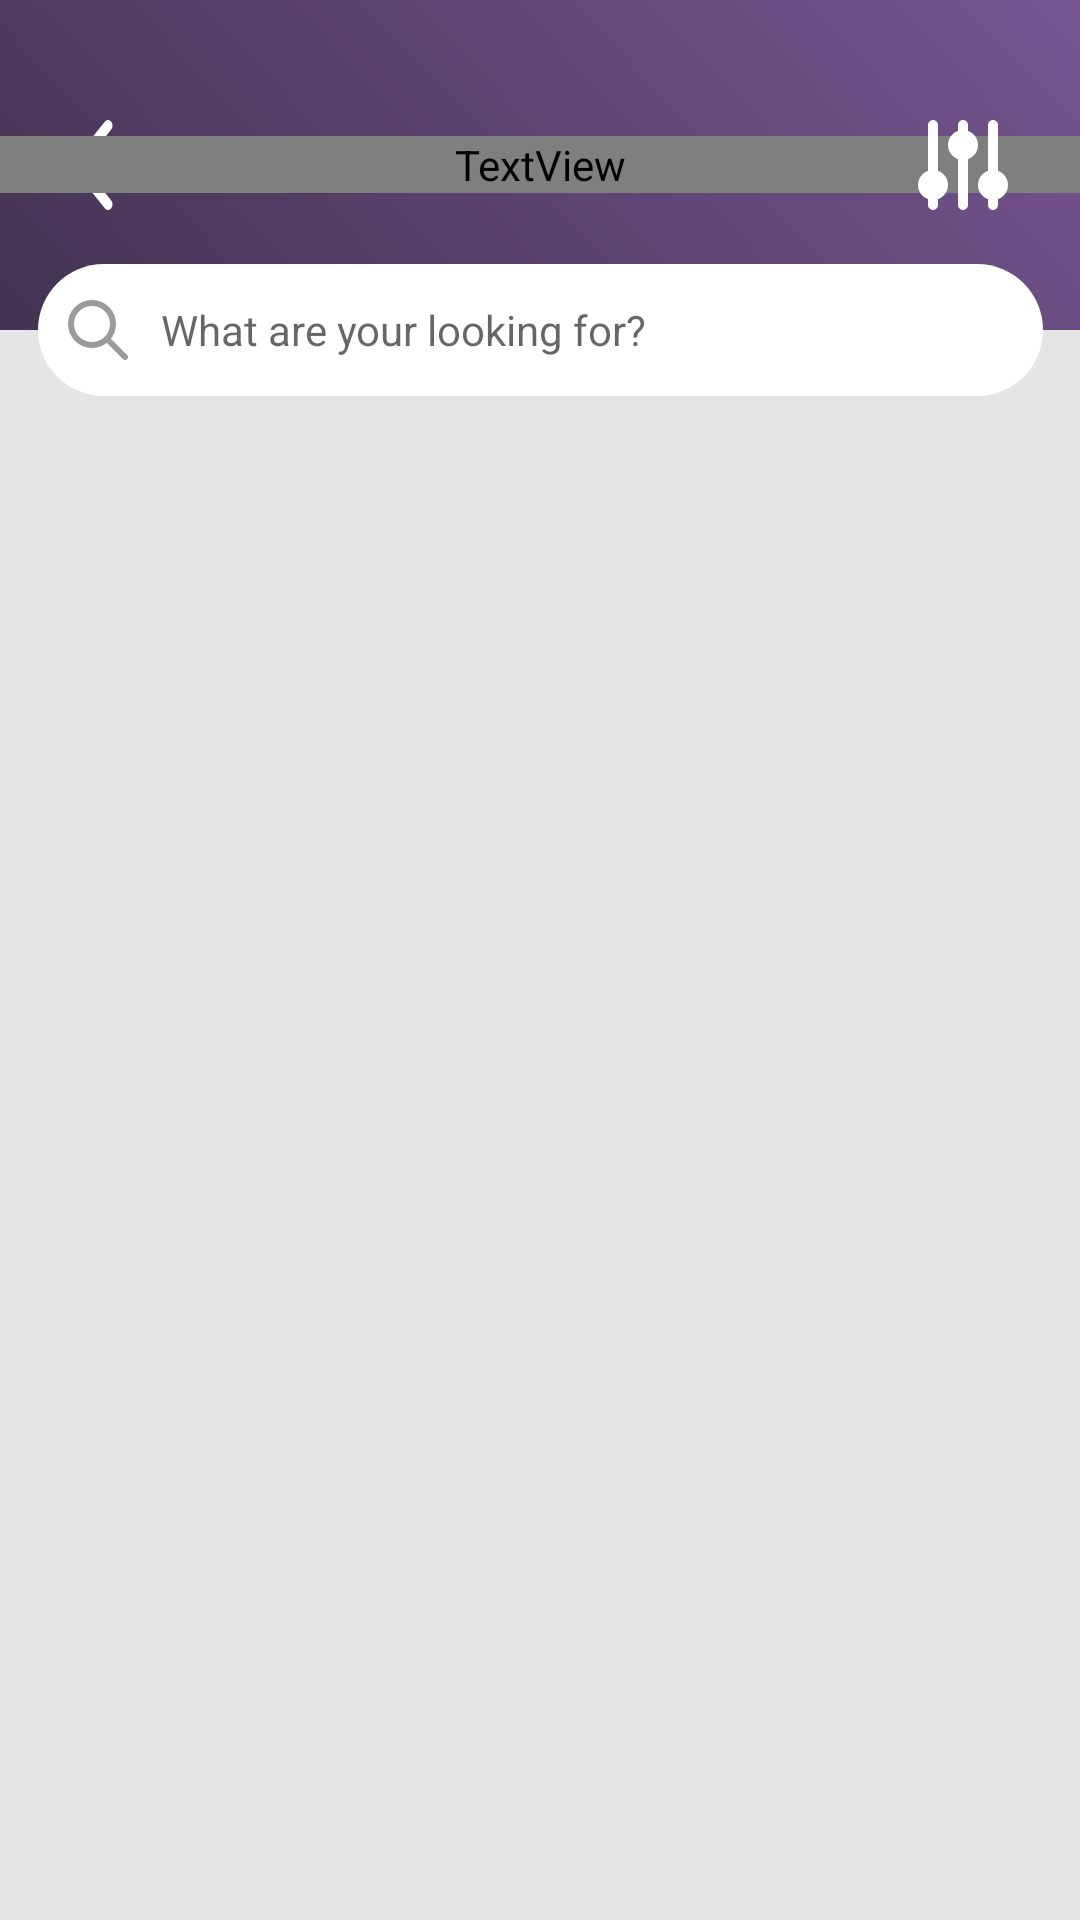

Locate icon controls on the screen. Image size 1080x1920, boxes as (x1, y1, x2, y2).
filter menu: (918, 120, 1008, 210)
